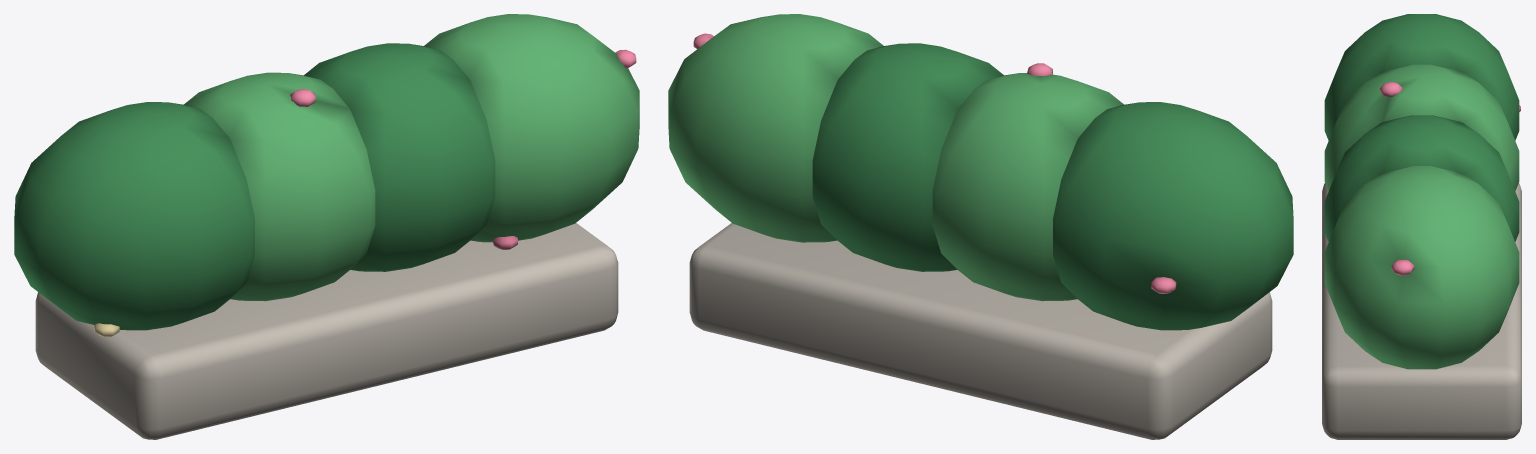
The model's file is hedge.glb.
3 views of the same model, side by side, from view 1: azimuth 30°, elevation 25°; view 2: azimuth 150°, elevation 25°; view 3: azimuth 270°, elevation 25° (orthographic). The views are drawn at different scales.
Visible parts, largest first — view 1: hedge; view 2: hedge; view 3: hedge.
Boxes of the visible parts, bbox=[...] form: hedge: bbox=[14, 14, 639, 439]; hedge: bbox=[668, 14, 1293, 439]; hedge: bbox=[1322, 14, 1521, 439].
Bounding box in the file's own units: 1.5 × 0.6701 × 0.5.
